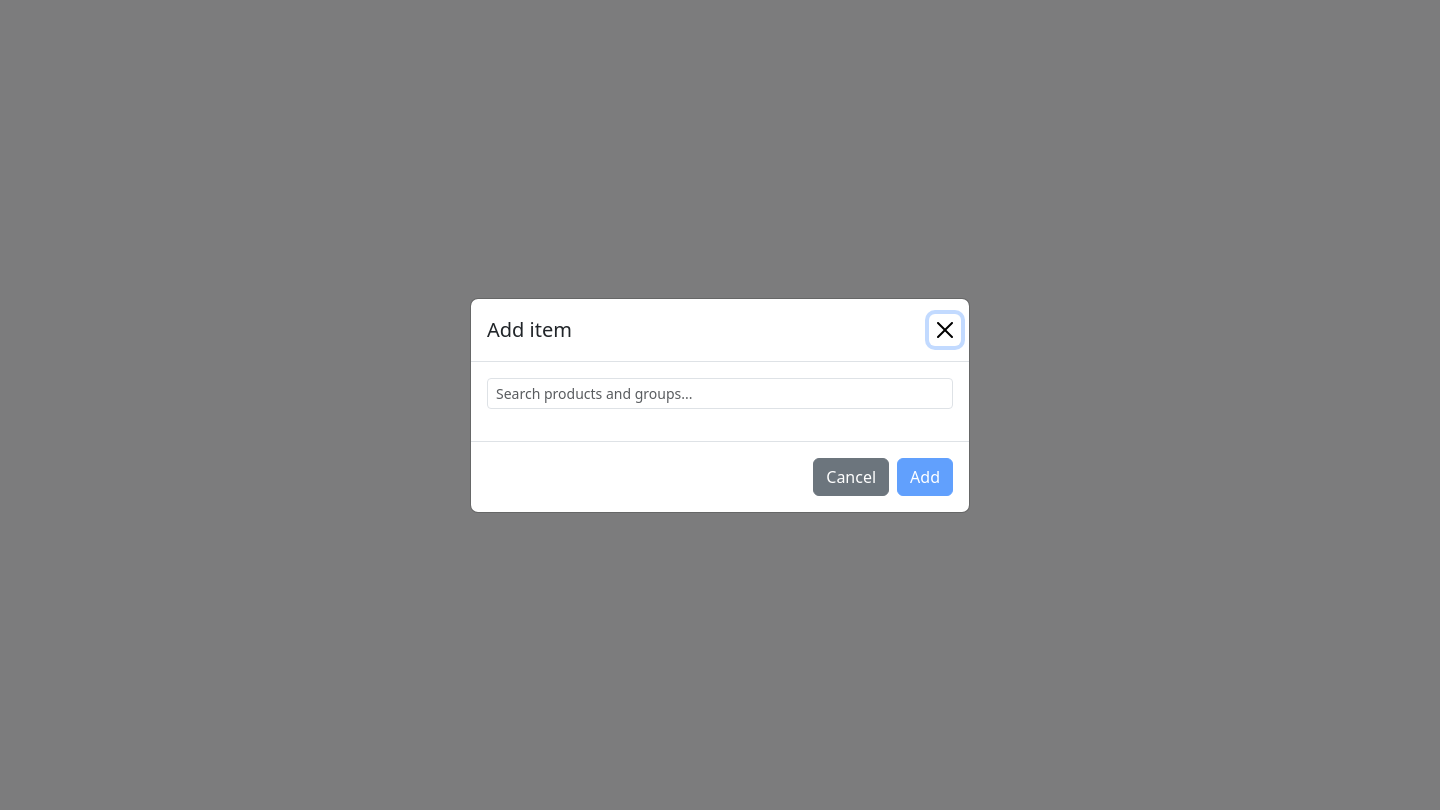
Test: ItemModal › add mode › clears selection when clear button is clicked
This screenshot has width=1440, height=810.
Type "oats" into the field with placeholder "Search products and groups..." at (720,393), box [487,378,953,408]
Wait 300 ms
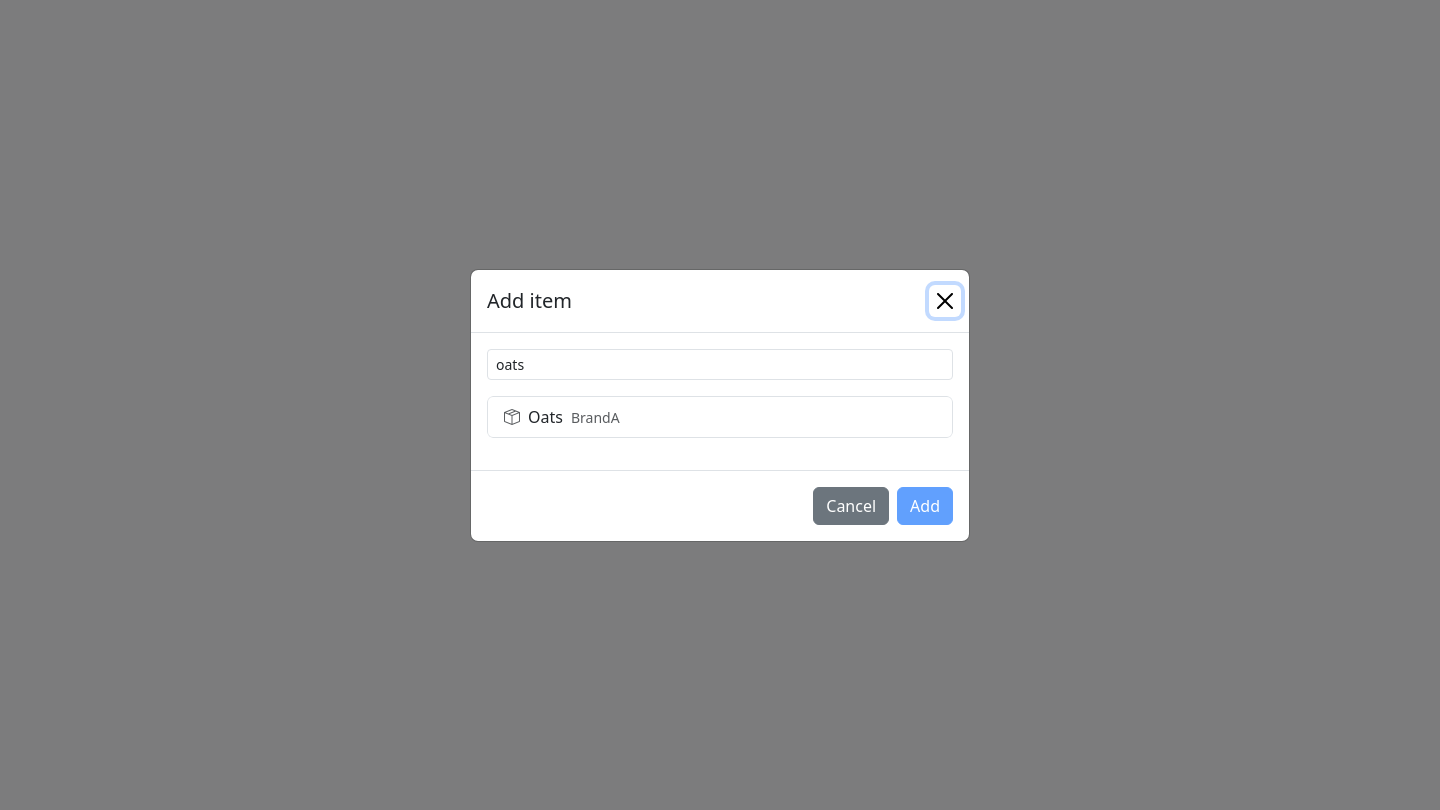
Expected: the text "Oats" is shown
Click the text "Oats" at (545,416), box [528,406,563,428]
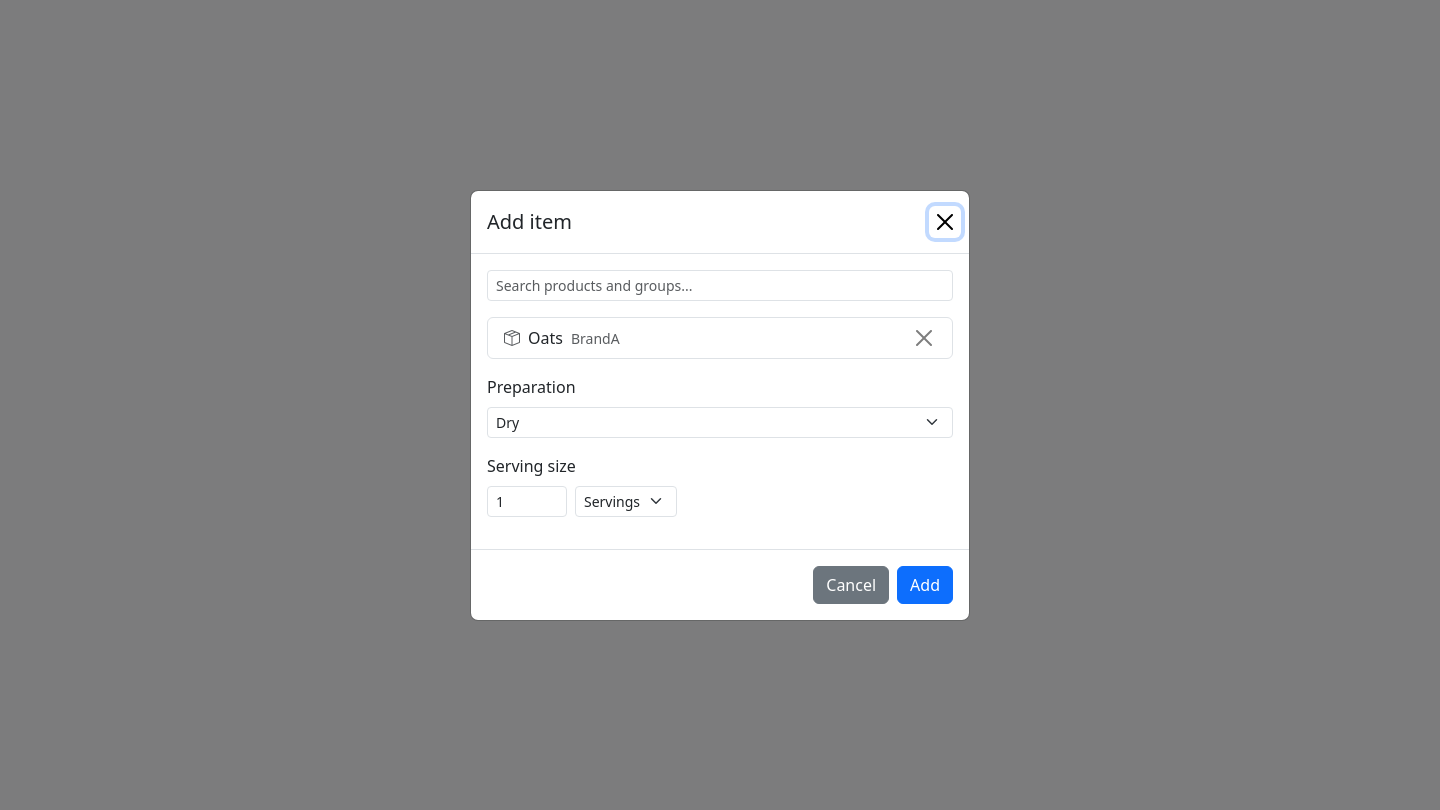
Expected: the text "Serving size" is shown, [487,454,576,476]
Click the button named "Clear selection" at (924,338), box [912,326,936,350]
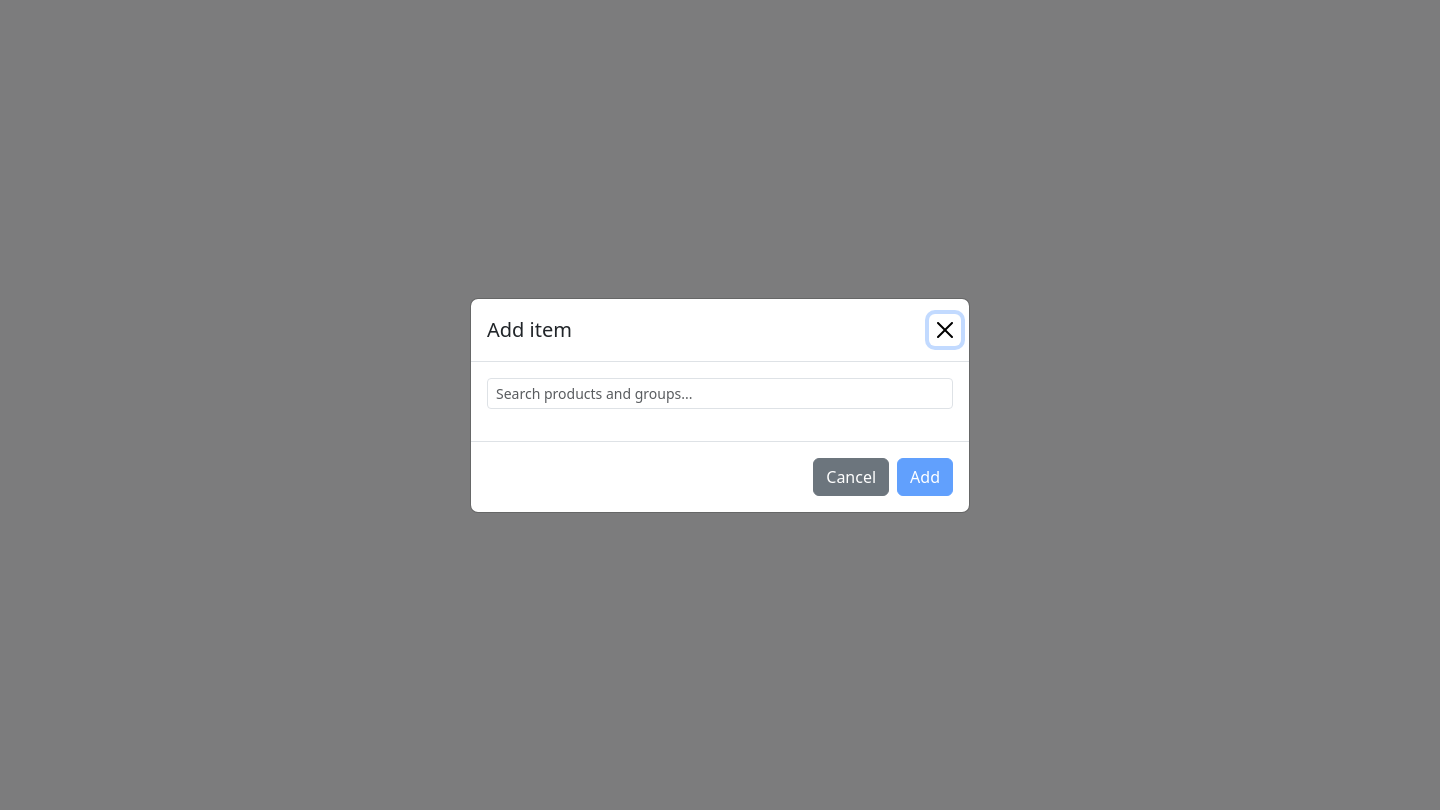
Expected: the text "Serving size" is gone
Expected: the button "Add" is disabled, [897,458,953,496]
